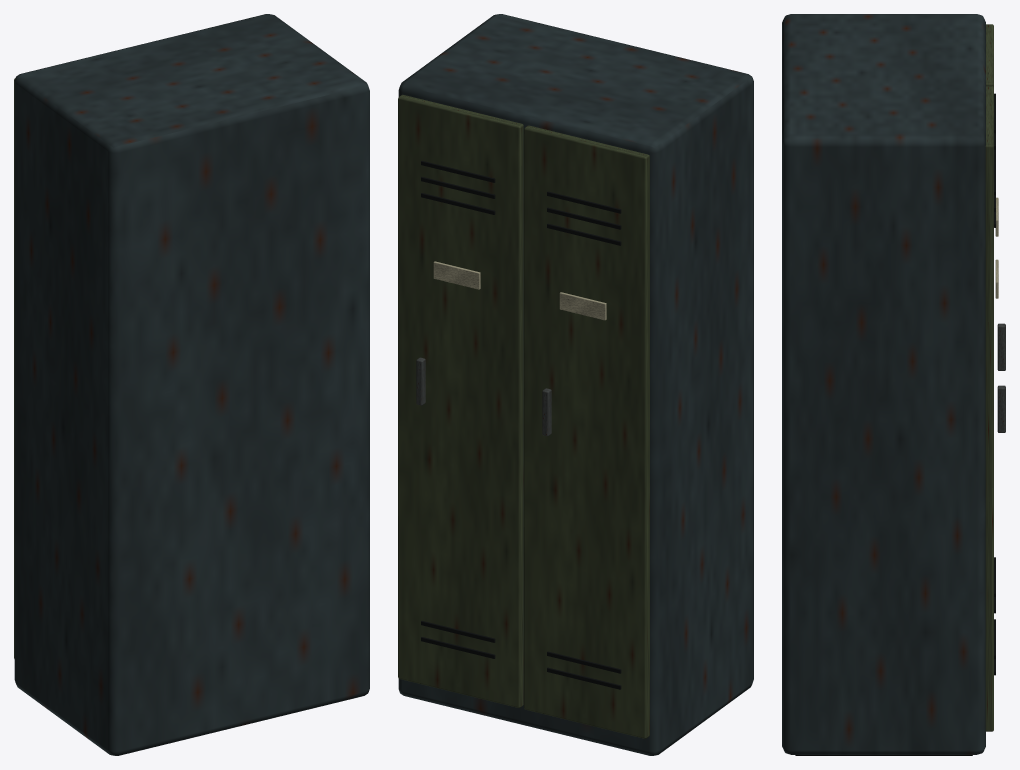
The model's file is locker.glb.
3 views of the same model, side by side, from view 1: azimuth 30°, elevation 25°; view 2: azimuth 150°, elevation 25°; view 3: azimuth 270°, elevation 25° (orthographic).
Visible parts, largest first — view 1: body_slate; view 2: body_olive, body_slate, body_darksteel, body_ivory, body_steel; view 3: body_slate, body_olive, body_steel, body_darksteel.
Part boxes in pixels (x1,y1,x2,y2): body_slate: (14,14,369,755); body_olive: (398,94,649,738); body_slate: (398,14,753,755); body_darksteel: (421,161,621,689); body_ivory: (433,261,606,320); body_steel: (416,357,551,436); body_slate: (782,14,985,754); body_olive: (985,24,993,731); body_steel: (997,323,1005,432); body_darksteel: (795,93,995,755).
Bounding box in the file's own units: 0.85 × 1.91 × 0.6255.
Materials: 5 (5 with a texture image).
